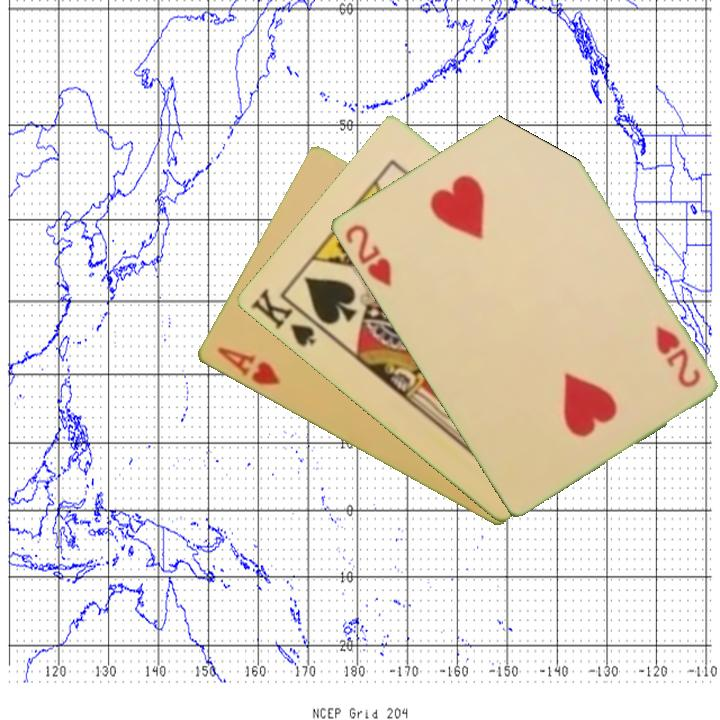2h: (341, 220, 394, 289), (651, 322, 703, 391)
Ah: (213, 343, 283, 389)
Ks: (246, 285, 328, 350)
